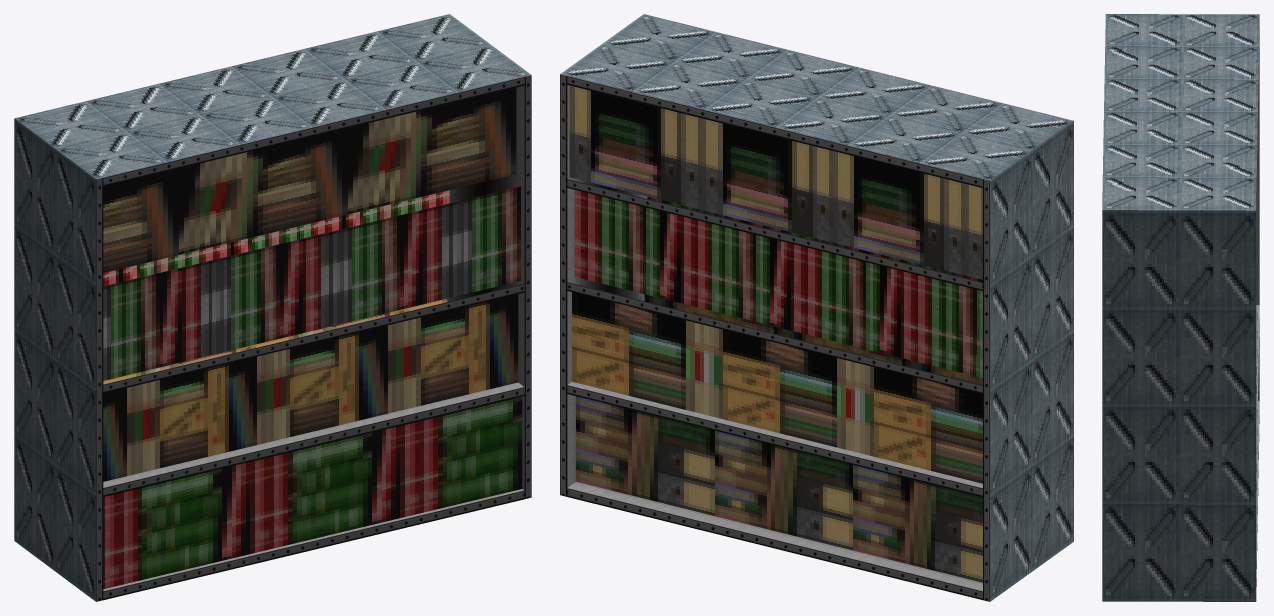
File: primary_054.glb
3 views of the same model, side by side, from view 1: azimuth 30°, elevation 25°; view 2: azimuth 150°, elevation 25°; view 3: azimuth 270°, elevation 25° (orthographic). The views are drawn at different scales.
Visible parts, largest first — view 1: Object; view 2: Object; view 3: Object.
Boxes of the visible parts, x1,y1,x2,y2 form: Object: (14,14,531,601); Object: (560,14,1073,601); Object: (1102,14,1259,601).
Size of the model in its own units: 2.69 by 2.5 by 0.9124.
Materials: 16 (16 with a texture image).
